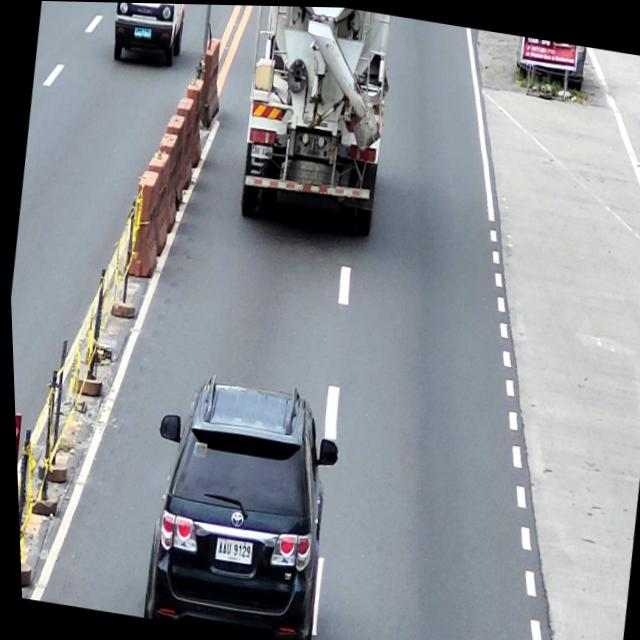Car: (127, 369, 348, 640), (108, 2, 192, 67)
License-Plate: (211, 536, 249, 565), (249, 143, 273, 158), (133, 26, 152, 40)
Truck: (229, 4, 400, 239)
